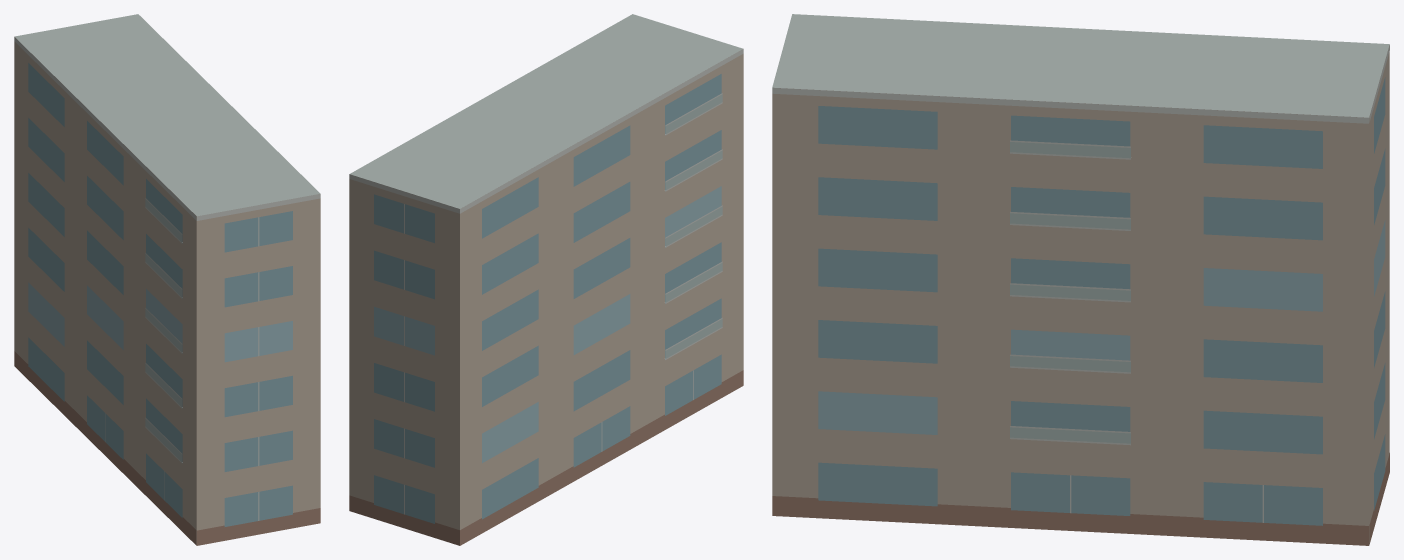
Rendered from survey-upis-32717613.glb.
3 renders of one model, left to right at view 1: azimuth 30°, elevation 25°; view 2: azimuth 150°, elevation 25°; view 3: azimuth 270°, elevation 25°, orthographic. The views are drawn at different scales.
Parts seen in each view (by area): view 1: survey-upis-32717613.tmp; view 2: survey-upis-32717613.tmp; view 3: survey-upis-32717613.tmp.
Part boxes in pixels (x1,y1,x2,y2): survey-upis-32717613.tmp: (14,14,320,545); survey-upis-32717613.tmp: (349,14,743,545); survey-upis-32717613.tmp: (772,14,1389,545).
Size of the model in its own units: 8.94 by 17.2 by 22.5.
